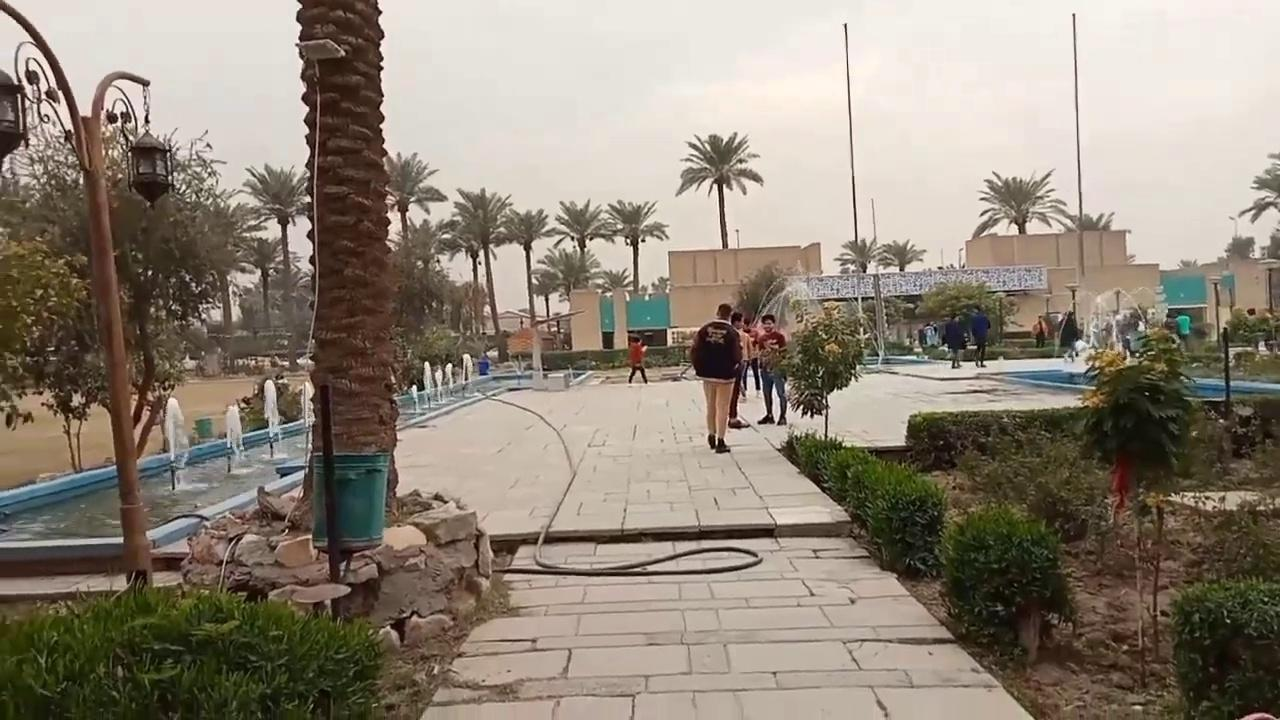fountain: (1, 349, 594, 568), (749, 267, 1275, 452), (1, 379, 313, 564), (1055, 282, 1165, 381)
person: (690, 302, 742, 453), (753, 313, 788, 425), (727, 311, 751, 429), (969, 305, 990, 367), (943, 312, 964, 368), (1058, 310, 1079, 362), (626, 335, 648, 384), (1032, 314, 1047, 348)
tree: (0, 113, 250, 587), (293, 0, 400, 557), (1072, 323, 1198, 685), (382, 150, 447, 390), (240, 161, 312, 370), (770, 300, 869, 439), (184, 191, 259, 372), (440, 186, 513, 356), (675, 130, 763, 249), (547, 197, 609, 348), (498, 207, 553, 369), (916, 275, 996, 364), (391, 216, 450, 335), (1237, 149, 1279, 314), (971, 167, 1068, 237), (600, 198, 669, 295), (437, 218, 487, 335), (383, 149, 446, 239), (875, 238, 926, 343), (1051, 203, 1114, 277), (832, 236, 883, 325), (238, 236, 283, 329), (733, 260, 788, 329), (535, 245, 600, 303), (917, 275, 994, 321), (550, 197, 607, 254), (592, 268, 632, 348), (1238, 150, 1279, 228), (983, 292, 1020, 346), (833, 236, 882, 273), (1051, 204, 1114, 232), (876, 238, 926, 272), (529, 269, 561, 319), (593, 267, 632, 295)
